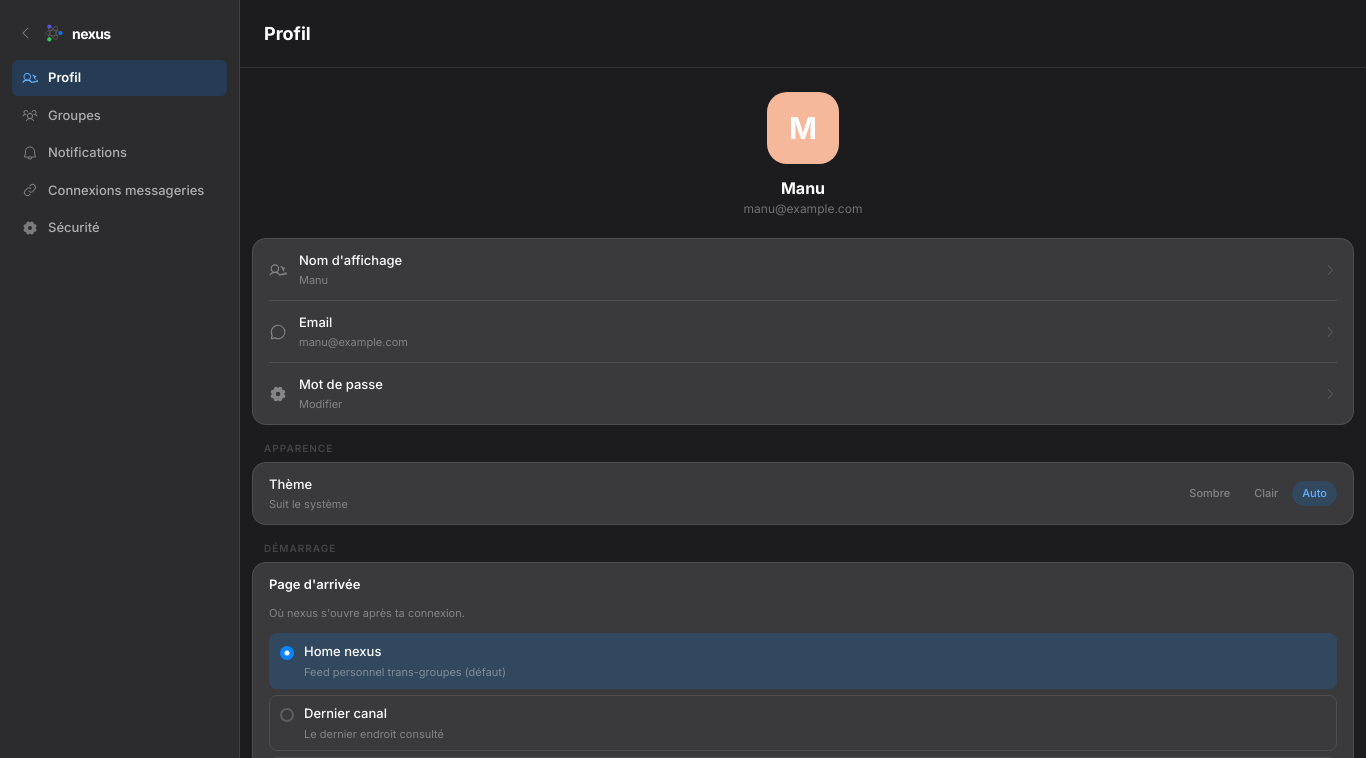
Test case: SettingsScreen › section "À propos" — build web (MAN-133) › affiche l'identifiant de build web quand VITE_GIT_SHA est défini
Click the button "Sécurité": (120, 228) [12,210,227,246]
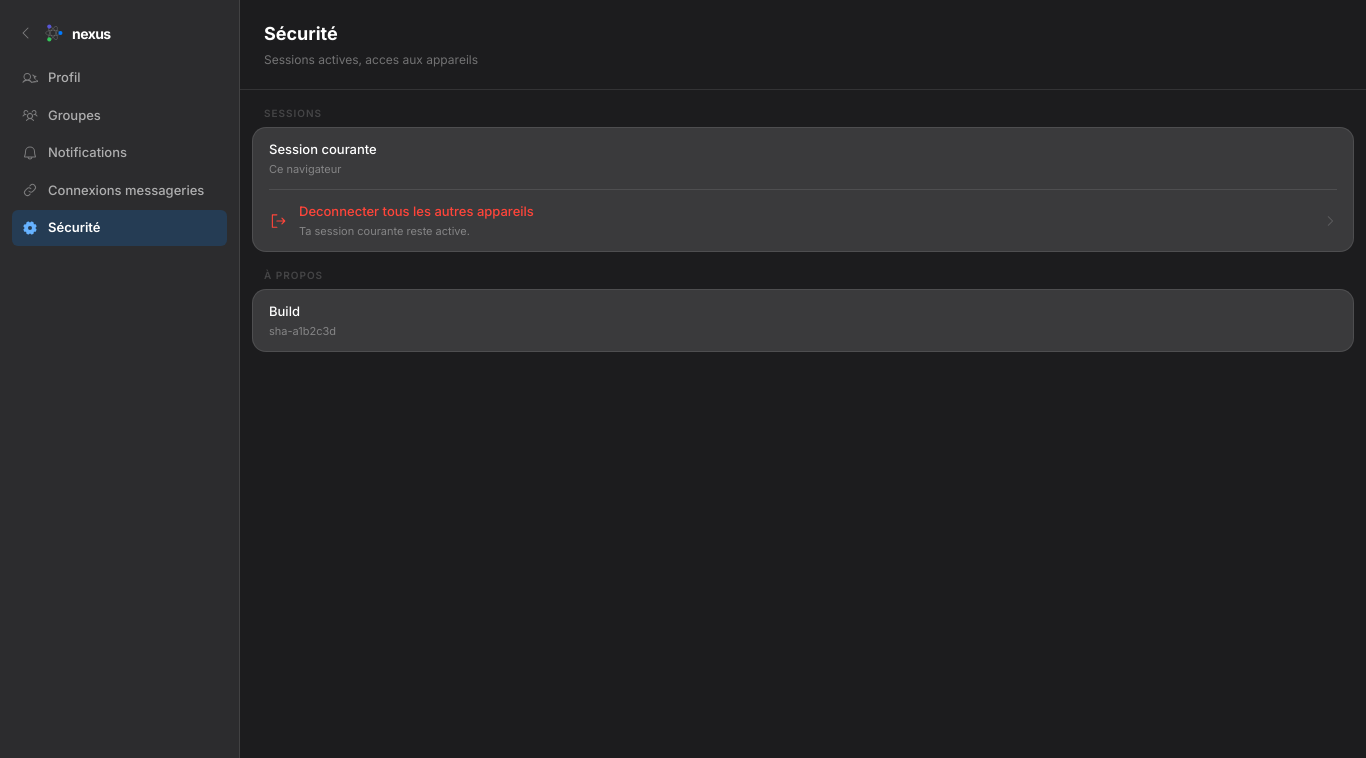
Expected: the text "sha-a1b2c3d" is shown, [269,324,336,338]
